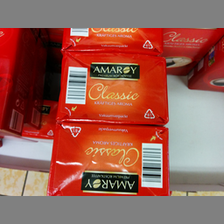coffee: (47, 123, 170, 194), (55, 51, 171, 124)
